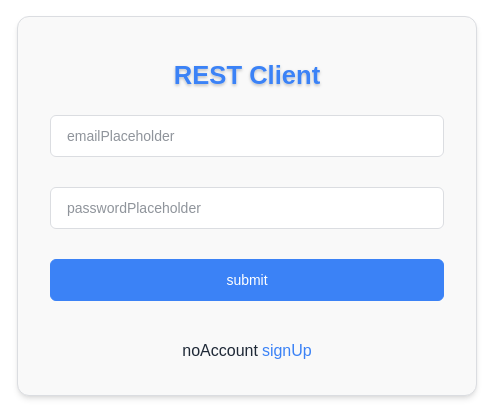
Test: SignIn › shows auth error when sign in fails
This screenshot has width=495, height=417.
Step 1. Type "test@user.com" into the field with placeholder "emailPlaceholder" → coordinates (247, 136), box [50, 115, 444, 157]
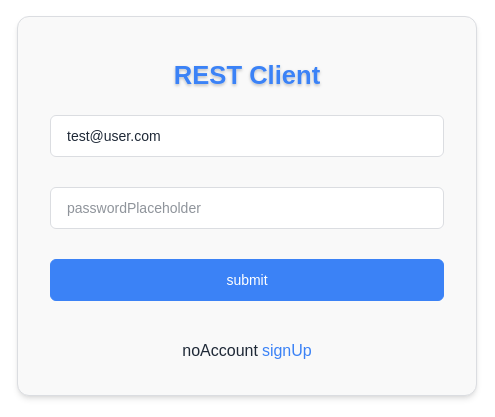
Step 2. Type "pass" into the password field with placeholder "passwordPlaceholder" → coordinates (247, 208), box [50, 187, 444, 229]
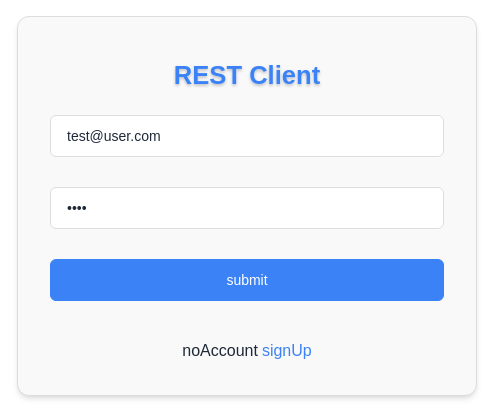
Step 3. Click the button "submit" → coordinates (247, 280), box [50, 259, 444, 301]
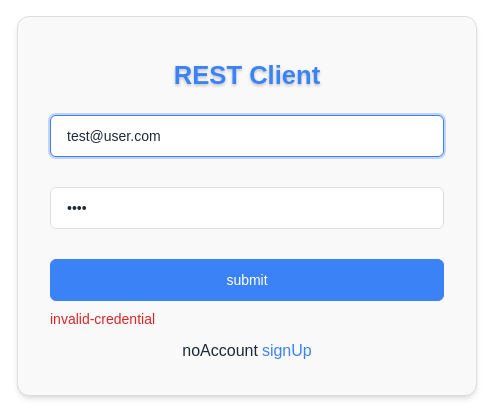
Expected: the text "invalid-credential" is shown, [50, 311, 155, 327]
